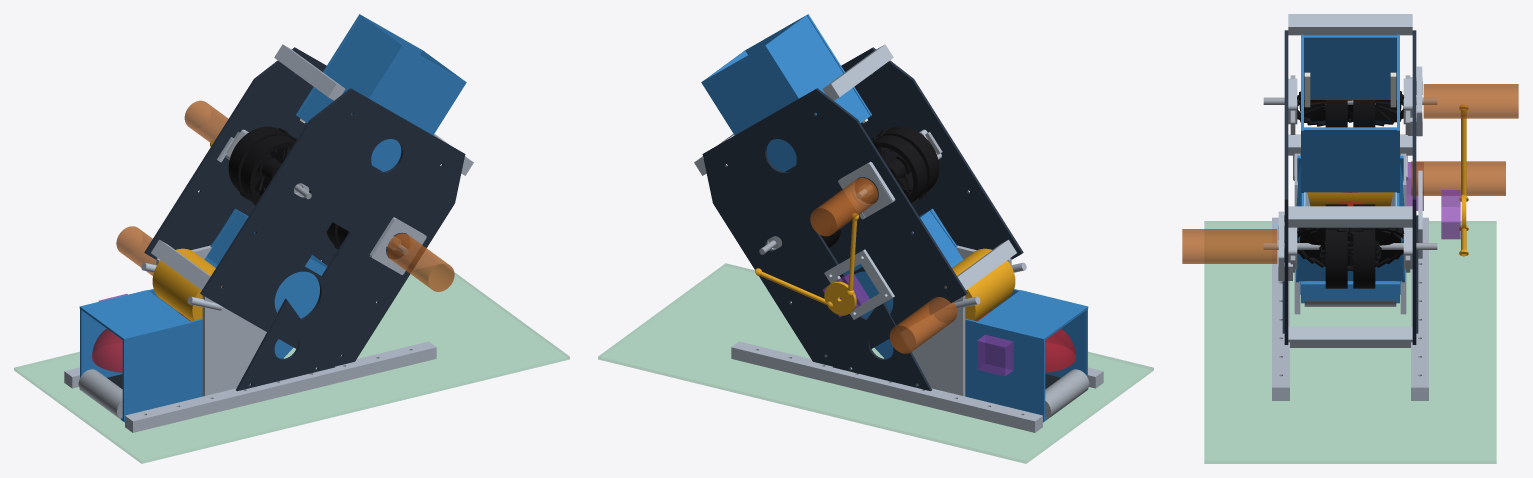
File: biobuzz_launcher_horizontal_feed_nectar.glb
3 renders of one model, left to right at view 1: azimuth 30°, elevation 25°; view 2: azimuth 150°, elevation 25°; view 3: azimuth 270°, elevation 25°, orthographic. The views are drawn at different scales.
Parts seen in each view (by area): view 1: main_side_plate_-1, 00_chassis_xy_reference, main_side_plate_+1, horizontal_feed_side_-1, base_rail_-1, output_sidewall_-1, kick_support_cheek_-1, output_roof, angle_gusset_-1, horizontal_feed_roof, horizontal_feed_side_+1, motor_envelope_lower (+13 smaller); view 2: main_side_plate_+1, 00_chassis_xy_reference, main_side_plate_-1, horizontal_feed_side_+1, base_rail_+1, output_sidewall_+1, output_roof, kick_support_cheek_+1, angle_gusset_+1, horizontal_feed_roof, horizontal_feed_side_-1, motor_envelope_upper (+15 smaller); view 3: 00_chassis_xy_reference, output_floor, output_roof, motor_envelope_upper, motor_envelope_lower, feed_motor_envelope, crossmember_128_-118, crossmember_128_118, crossmember_-162_-118, gecko_lower_1, gecko_lower_2, base_rail_+1 (+25 smaller).
Part boxes in pixels (<box>): main_side_plate_-1: <box>200,88,465,366</box>; 00_chassis_xy_reference: <box>14,272,569,463</box>; main_side_plate_+1: <box>144,47,382,265</box>; horizontal_feed_side_-1: <box>122,318,202,419</box>; base_rail_-1: <box>125,341,436,432</box>; output_sidewall_-1: <box>368,45,466,171</box>; kick_support_cheek_-1: <box>202,295,266,396</box>; output_roof: <box>298,15,403,123</box>; angle_gusset_-1: <box>236,298,334,391</box>; horizontal_feed_roof: <box>79,290,191,341</box>; horizontal_feed_side_+1: <box>80,289,171,389</box>; motor_envelope_lower: <box>387,233,454,291</box>; main_side_plate_+1: <box>702,88,967,366</box>; 00_chassis_xy_reference: <box>598,263,1153,463</box>; main_side_plate_-1: <box>785,47,1023,263</box>; horizontal_feed_side_+1: <box>965,318,1045,421</box>; base_rail_+1: <box>731,341,1042,432</box>; output_sidewall_+1: <box>701,45,799,171</box>; output_roof: <box>763,15,869,123</box>; kick_support_cheek_+1: <box>901,295,965,396</box>; angle_gusset_+1: <box>833,302,931,391</box>; horizontal_feed_roof: <box>976,290,1088,341</box>; horizontal_feed_side_-1: <box>996,289,1087,377</box>; motor_envelope_upper: <box>810,177,877,236</box>; 00_chassis_xy_reference: <box>1204,221,1496,463</box>; output_floor: <box>1302,127,1399,192</box>; output_roof: <box>1301,35,1399,99</box>; motor_envelope_upper: <box>1423,84,1518,118</box>; motor_envelope_lower: <box>1182,229,1277,263</box>; feed_motor_envelope: <box>1411,161,1505,195</box>; crossmember_128_-118: <box>1288,206,1412,227</box>; crossmember_128_118: <box>1288,14,1412,35</box>; crossmember_-162_-118: <box>1288,326,1412,347</box>; gecko_lower_1: <box>1297,204,1381,288</box>; gecko_lower_2: <box>1319,204,1404,288</box>; base_rail_+1: <box>1411,217,1428,400</box>.
Bounding box in the file's own units: 620 × 434 × 368.
